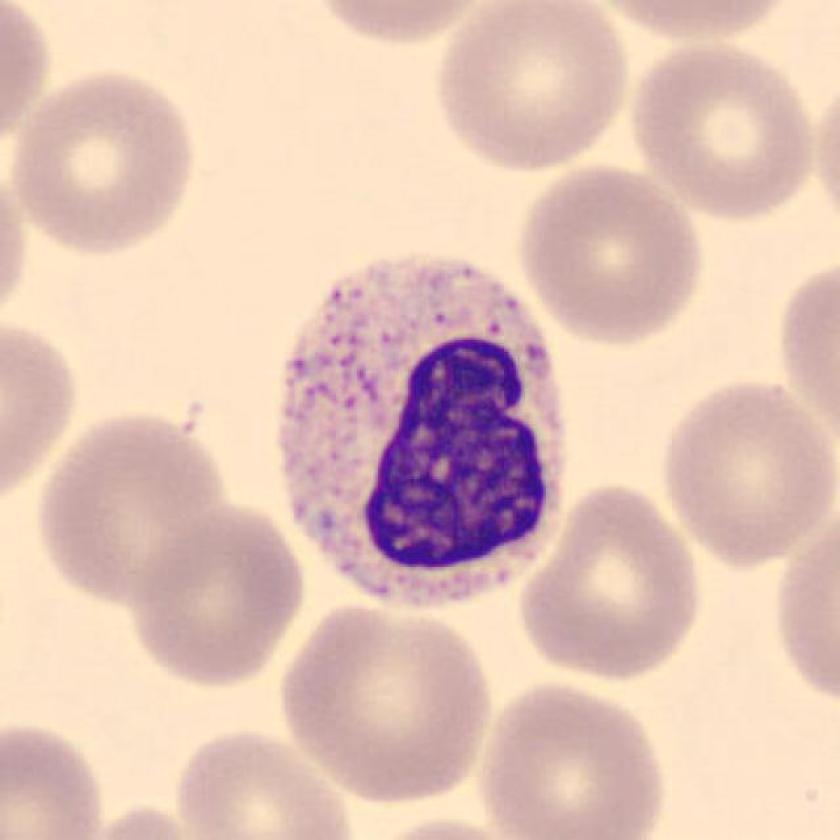neutrophil: (278, 257, 567, 602)
